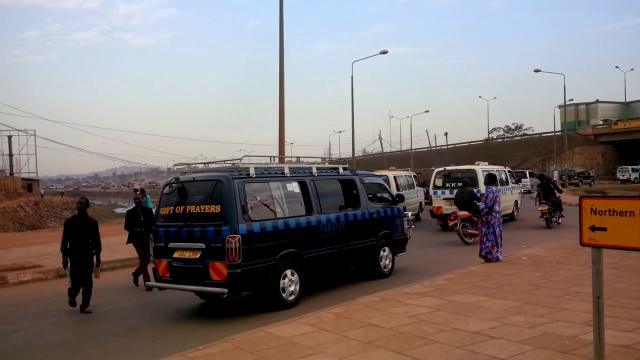car: (511, 169, 539, 194)
motorcycle: (446, 180, 481, 248), (534, 174, 564, 226)
van: (144, 158, 412, 311), (427, 163, 523, 227), (388, 170, 424, 219)
